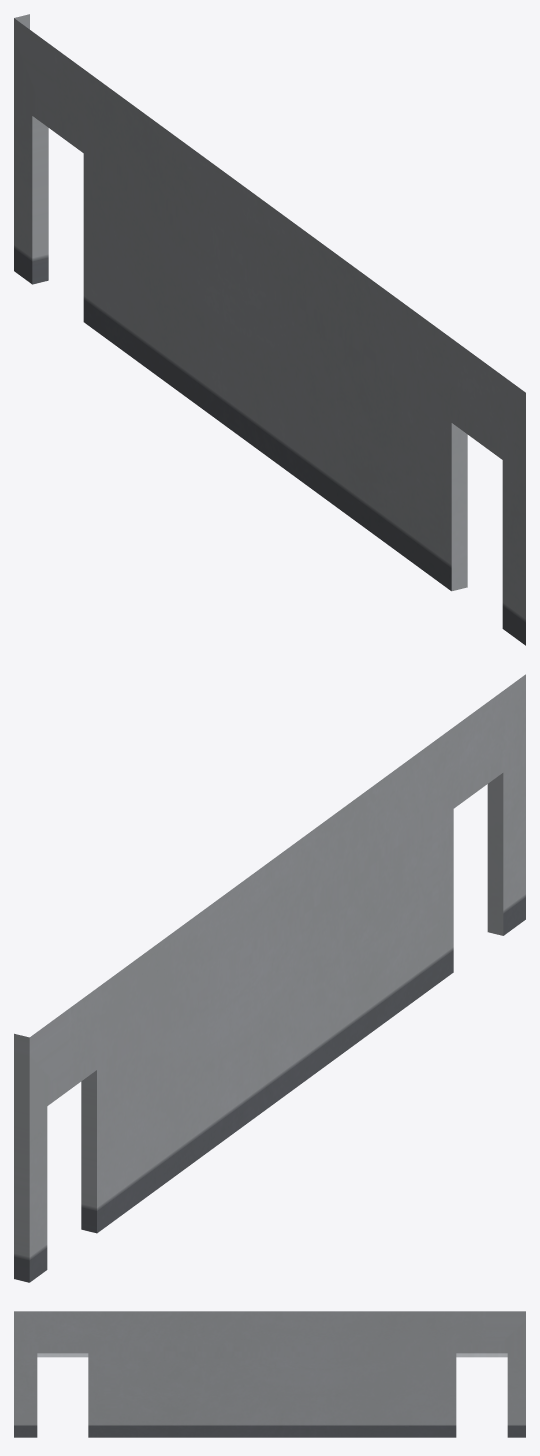
File: BgMD_Tanihira_Wall_1001.fbx
The picture shows the model from 3 angles, top to bottom: view 1: azimuth 30°, elevation 25°; view 2: azimuth 150°, elevation 25°; view 3: azimuth 270°, elevation 25°; orthographic projection. The views are drawn at different scales.
Visible parts, largest first — view 1: polySurface188; view 2: polySurface188; view 3: polySurface188.
Part boxes in pixels (x1,y1,x2,y2): polySurface188: (14, 14, 525, 645); polySurface188: (14, 674, 525, 1282); polySurface188: (14, 1311, 525, 1437).
Bounding box in the file's own units: 20 × 300 × 1100.
